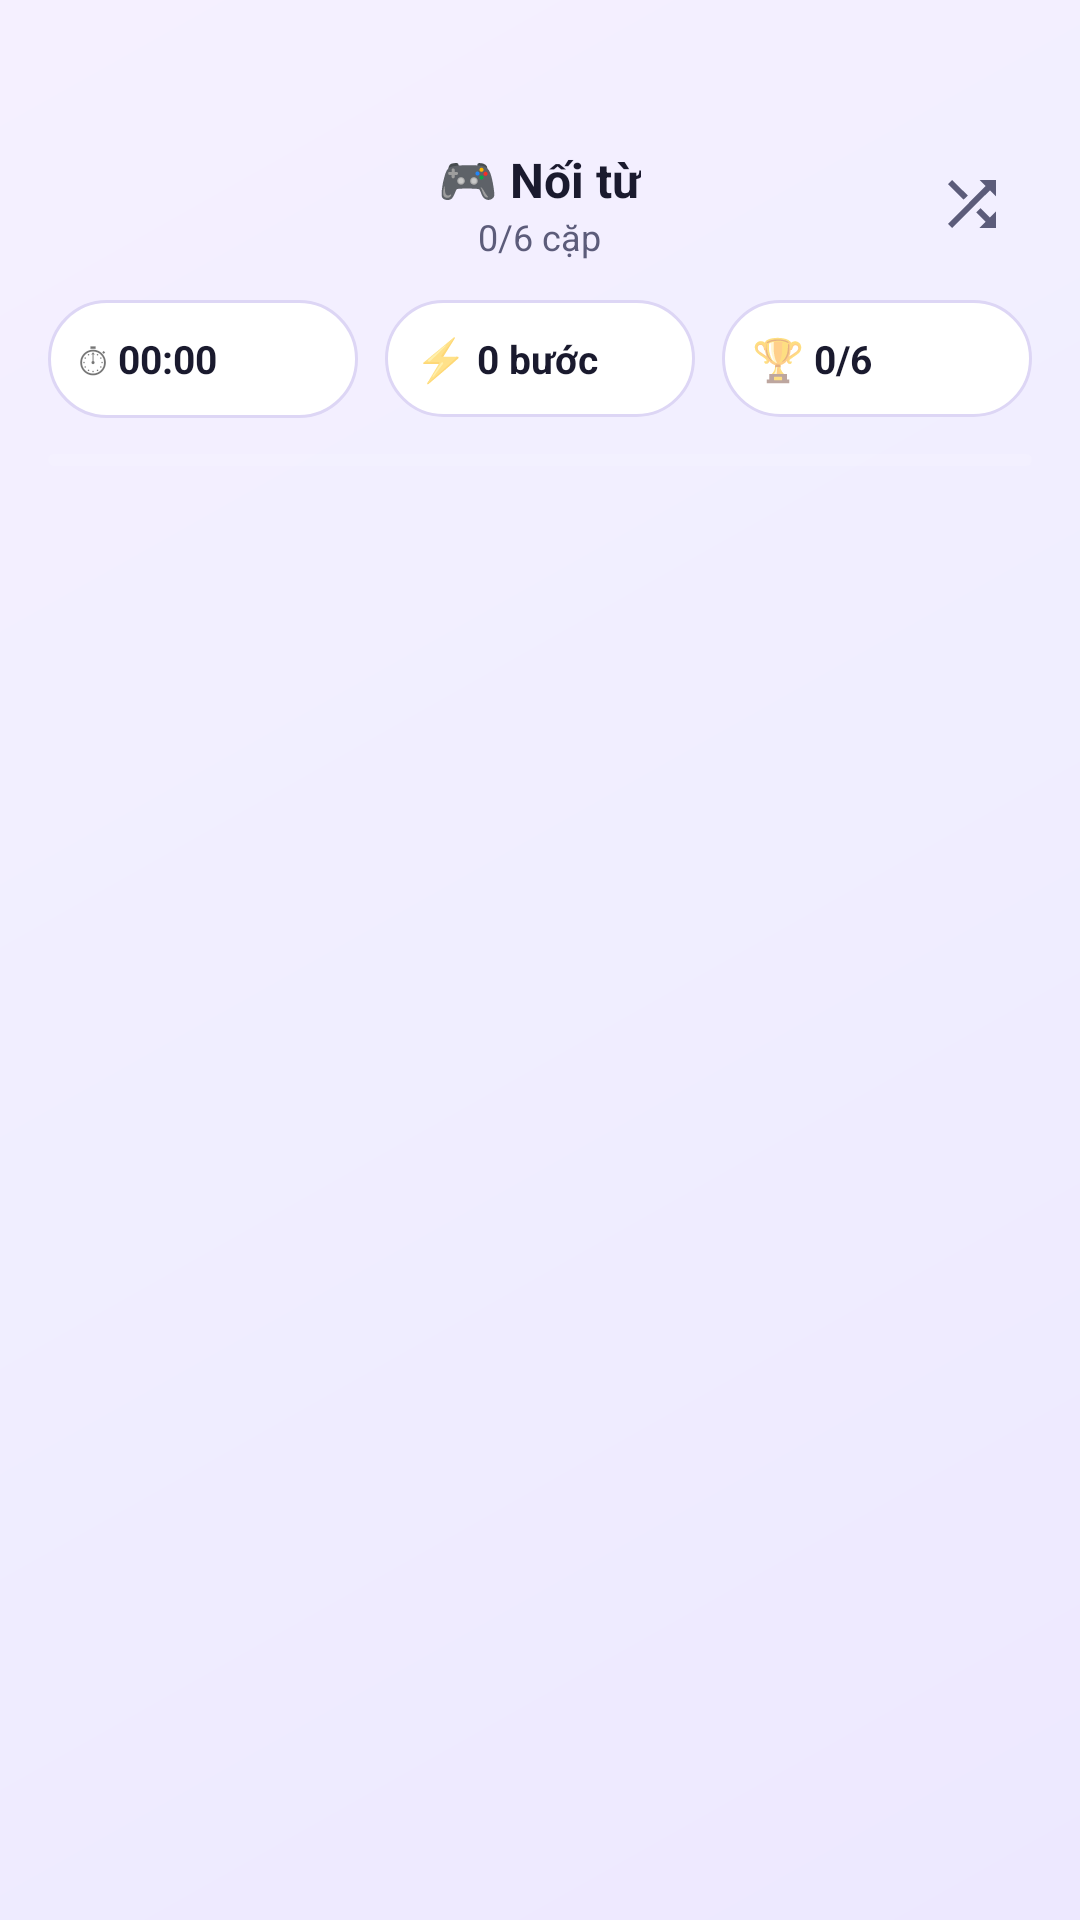

Icon bounding boxes for this 1080 x 1920 phone screenshot, format box(x1, y1, x2, y2):
shuffle: box(948, 180, 996, 228)
